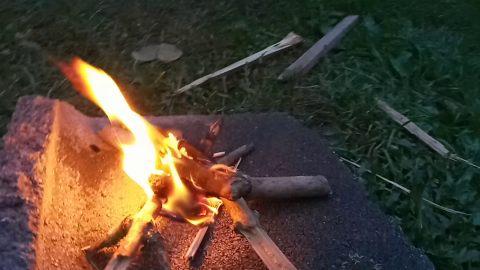fire: (55, 53, 238, 226)
